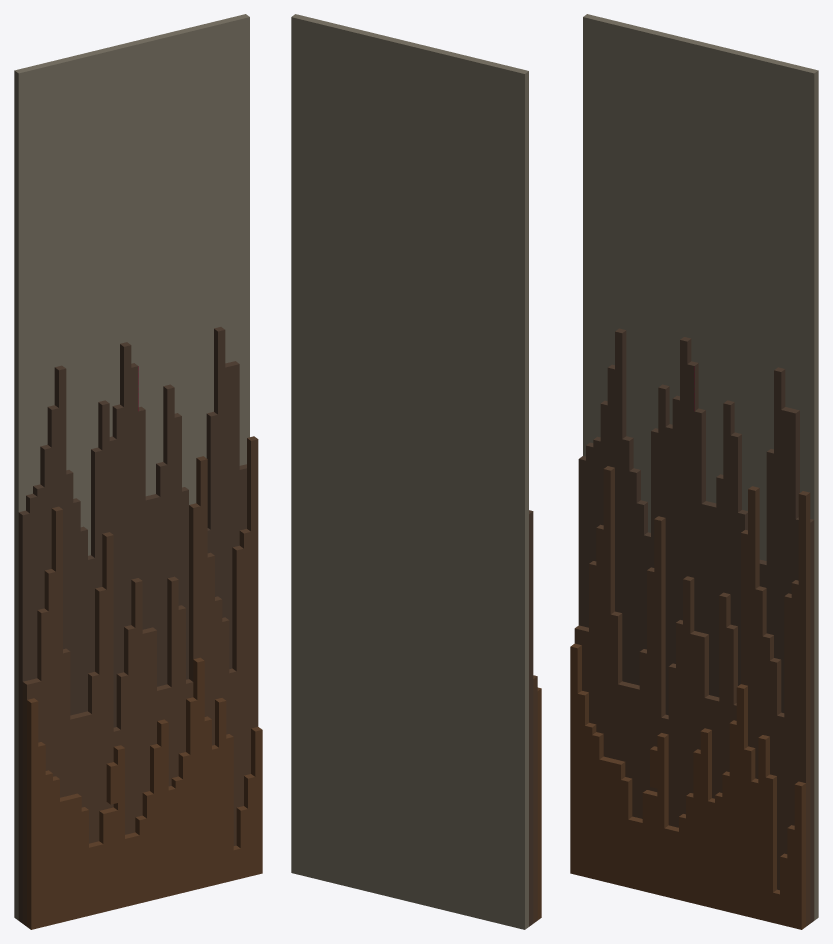
Rendered from scene_dessert.glb.
3 views of the same model, side by side, from view 1: azimuth 30°, elevation 25°; view 2: azimuth 150°, elevation 25°; view 3: azimuth 330°, elevation 25° (orthographic).
Parts seen in each view (by area): view 1: scene_desert_9, scene_desert_7, scene_desert_10, scene_desert_8; view 2: scene_desert_9, scene_desert_7, scene_desert_10, scene_desert_8; view 3: scene_desert_9, scene_desert_7, scene_desert_10, scene_desert_8.
Boxes of the visible parts, box(x1,y1,x2,y2) form: scene_desert_9: box(14, 14, 249, 920); scene_desert_7: box(18, 327, 246, 923); scene_desert_10: box(22, 436, 258, 926); scene_desert_8: box(27, 657, 262, 929); scene_desert_9: box(291, 14, 528, 929); scene_desert_7: box(529, 510, 533, 926); scene_desert_10: box(533, 675, 537, 923); scene_desert_8: box(537, 687, 541, 920); scene_desert_9: box(583, 14, 818, 920); scene_desert_7: box(578, 328, 814, 923); scene_desert_10: box(574, 466, 810, 926); scene_desert_8: box(570, 643, 805, 929).
Size of the model in its own units: 3.2 by 11.2 by 0.4.
Materials: 1 (1 with a texture image).
